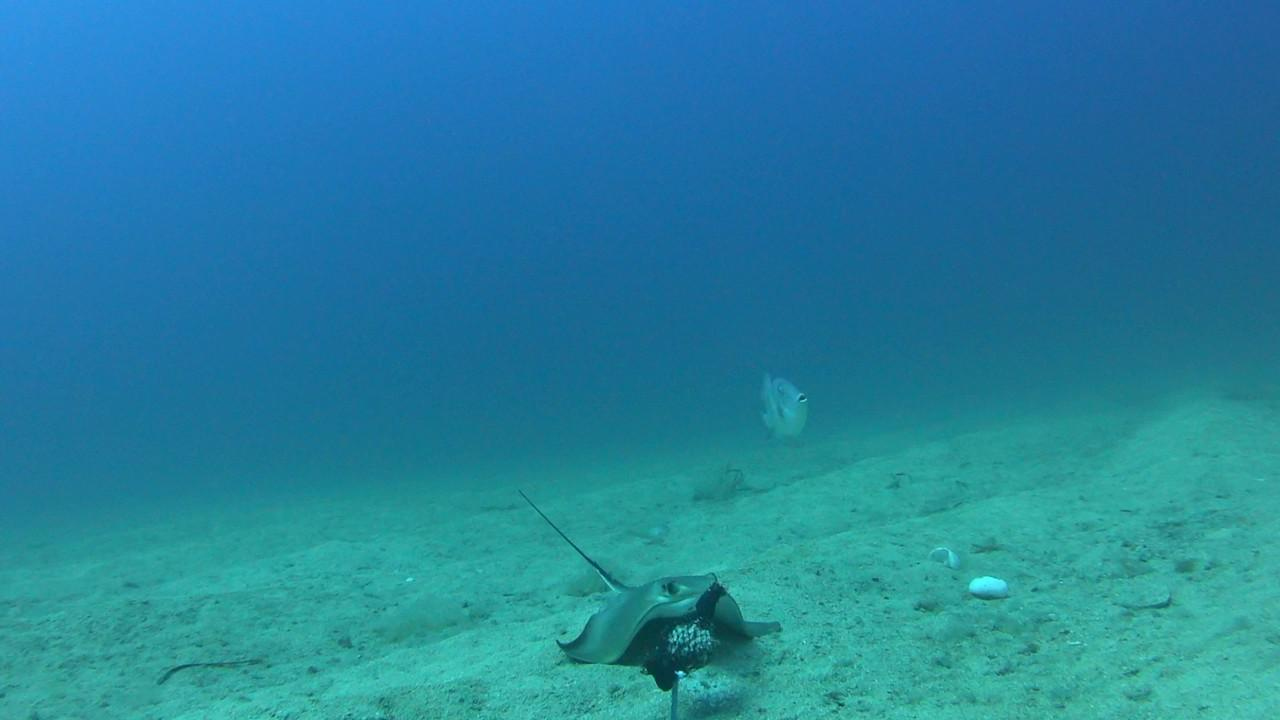balistes: (758, 369, 814, 450)
myliobatis: (490, 472, 789, 661)
